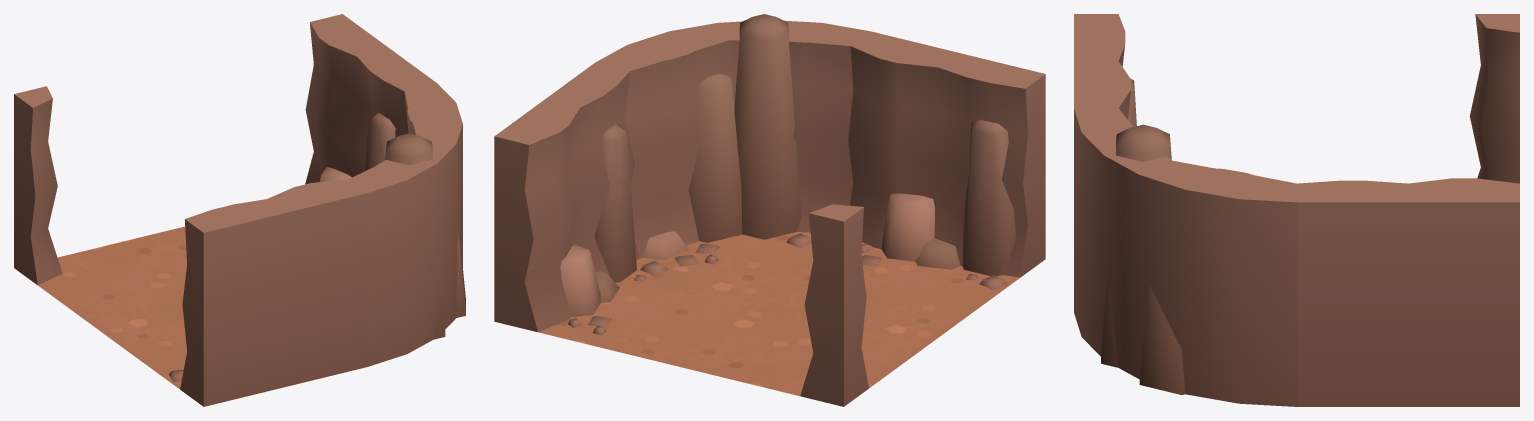
Rendered from corridor-wide-corner.obj.
3 views of the same model, side by side, from view 1: azimuth 30°, elevation 25°; view 2: azimuth 150°, elevation 25°; view 3: azimuth 270°, elevation 25° (orthographic). The views are drawn at different scales.
Parts seen in each view (by area): view 1: corridor-wide-corner; view 2: corridor-wide-corner; view 3: corridor-wide-corner.
Part boxes in pixels (box(x1,y1,x2,y2)): corridor-wide-corner: box(14, 14, 465, 406); corridor-wide-corner: box(494, 14, 1045, 406); corridor-wide-corner: box(1074, 14, 1519, 406).
Size of the model in its own units: 8 by 4.4 by 8.
Materials: 1 (1 with a texture image).
